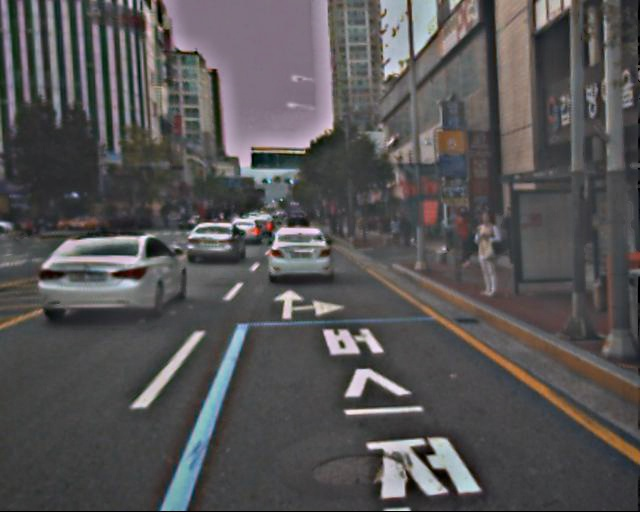person: (469, 209, 505, 298), (450, 206, 475, 267), (398, 210, 414, 248), (389, 213, 403, 247)
